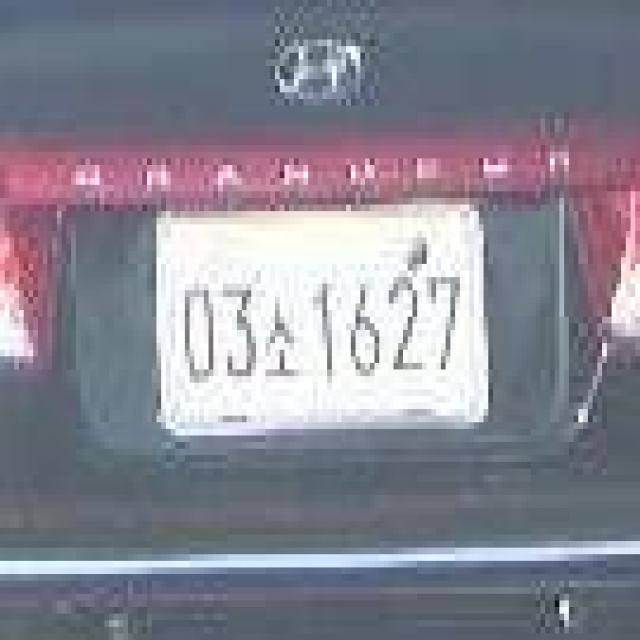illegal_plate: (150, 201, 492, 446)
